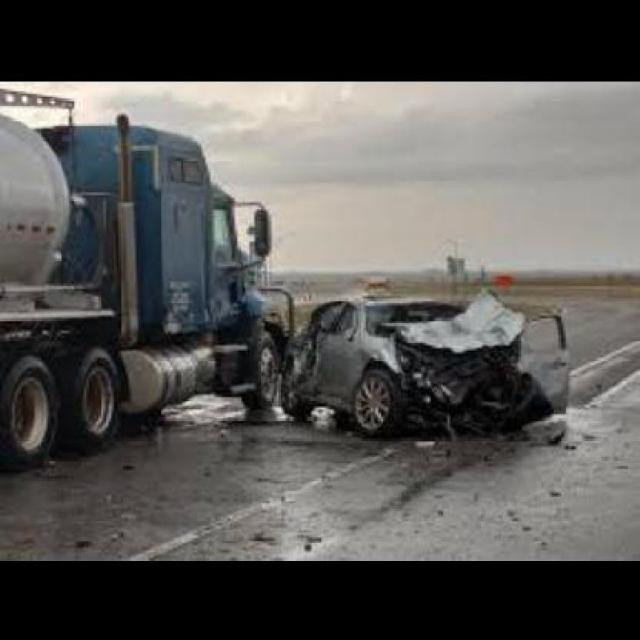accident: (0, 104, 586, 458)
